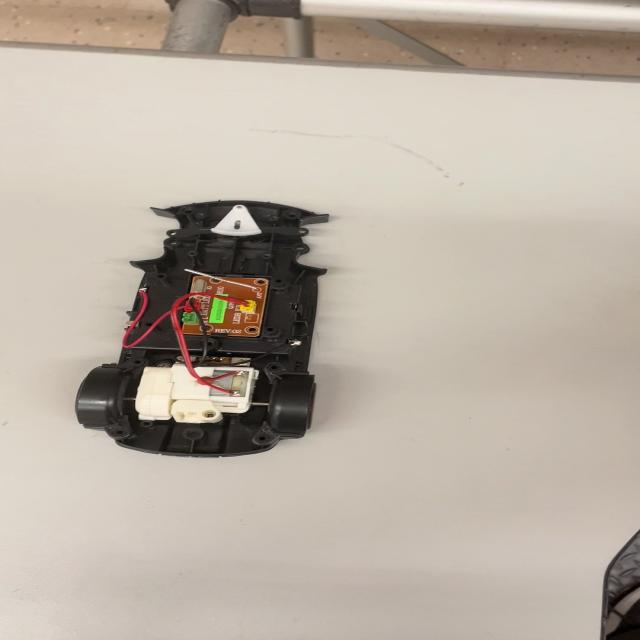Chassis: (70, 197, 338, 458)
